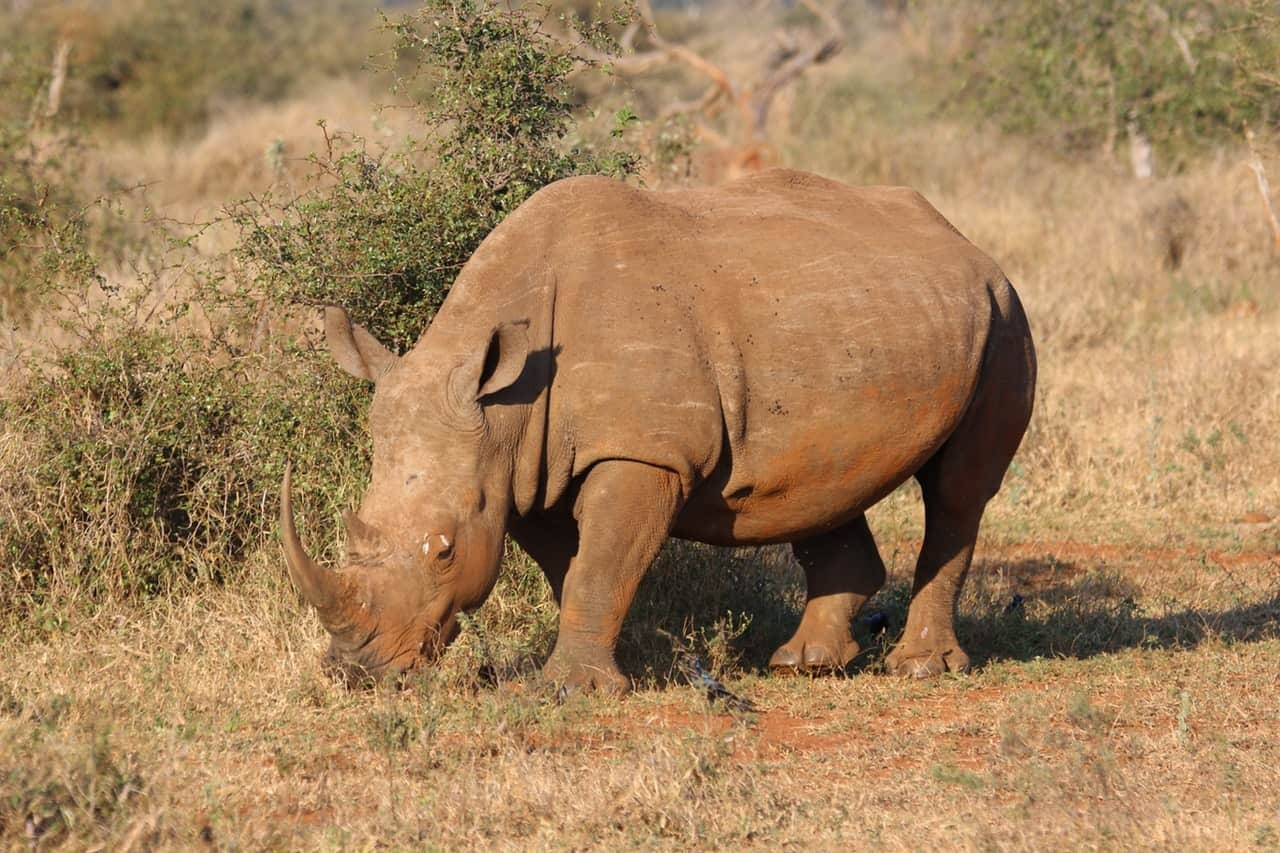rhino: (271, 162, 1044, 710)
